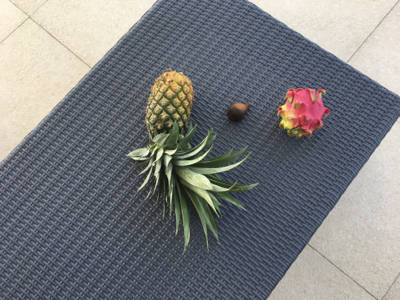dragon fruit: (279, 87, 329, 140)
pineapple: (127, 71, 261, 252)
snake fruit: (227, 102, 252, 122)
